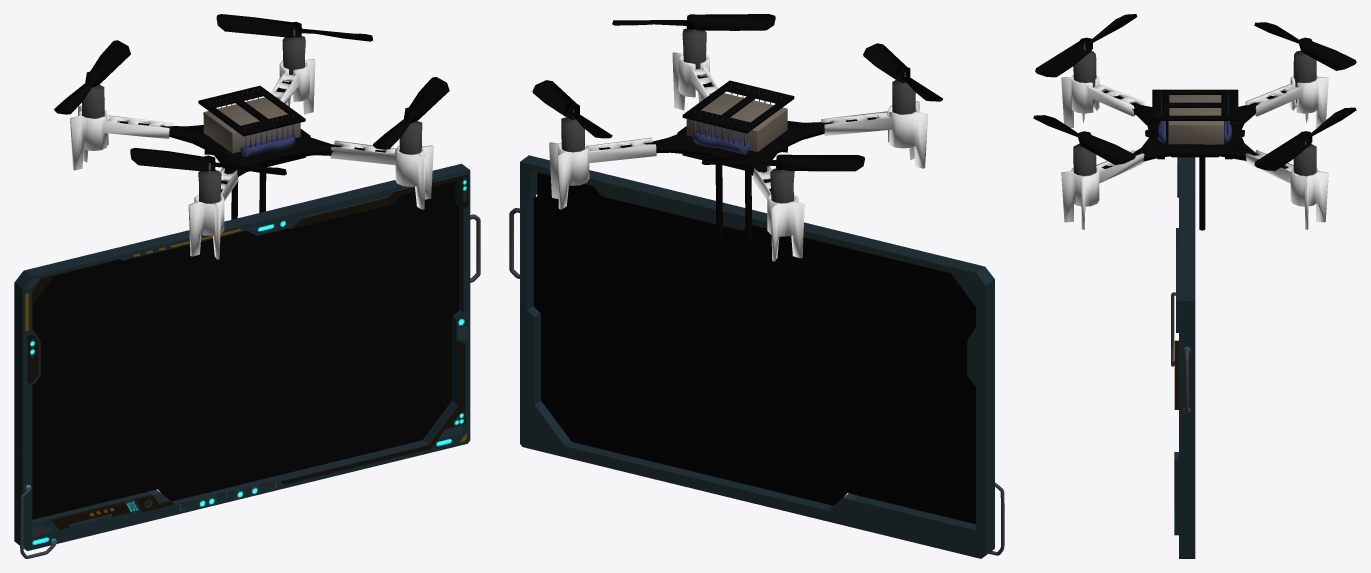
Rendered from screen.glb.
3 renders of one model, left to right at view 1: azimuth 30°, elevation 25°; view 2: azimuth 150°, elevation 25°; view 3: azimuth 270°, elevation 25°, orthographic. The views are drawn at different scales.
Parts seen in each view (by area): view 1: display, Main, 7mm motor mount Default sldprt_0, pcb Default sldprt_9, 7x15 motor Default sldprt_1, battery bc-bl-01-a Default sldprt_2, battery holder board Default sldprt_3, propeller ccw Default sldprt.002_6, propeller ccw Default sldprt.003_7, propeller ccw Default sldprt.004_8, propeller ccw Default sldprt.001_5, header Default sldprt_4; view 2: display, Main, 7mm motor mount Default sldprt_0, pcb Default sldprt_9, 7x15 motor Default sldprt_1, battery bc-bl-01-a Default sldprt_2, battery holder board Default sldprt_3, propeller ccw Default sldprt.001_5, propeller ccw Default sldprt.004_8, propeller ccw Default sldprt.002_6, propeller ccw Default sldprt.003_7, header Default sldprt_4; view 3: 7mm motor mount Default sldprt_0, Main, pcb Default sldprt_9, 7x15 motor Default sldprt_1, battery bc-bl-01-a Default sldprt_2, battery holder board Default sldprt_3, propeller ccw Default sldprt.002_6, propeller ccw Default sldprt.003_7, propeller ccw Default sldprt.001_5, propeller ccw Default sldprt.004_8, tx_cable.
Part boxes in pixels (left/top/right/bottom): display: left=32, top=181, right=458, bottom=519; Main: left=14, top=163, right=480, bottom=558; 7mm motor mount Default sldprt_0: left=70, top=58, right=433, bottom=259; pcb Default sldprt_9: left=120, top=81, right=385, bottom=192; 7x15 motor Default sldprt_1: left=82, top=28, right=422, bottom=203; battery bc-bl-01-a Default sldprt_2: left=203, top=97, right=300, bottom=153; battery holder board Default sldprt_3: left=198, top=85, right=305, bottom=136; propeller ccw Default sldprt.002_6: left=216, top=14, right=372, bottom=41; propeller ccw Default sldprt.003_7: left=130, top=148, right=286, bottom=175; propeller ccw Default sldprt.004_8: left=54, top=40, right=130, bottom=114; propeller ccw Default sldprt.001_5: left=373, top=77, right=449, bottom=149; header Default sldprt_4: left=210, top=88, right=295, bottom=157; display: left=533, top=172, right=975, bottom=524; Main: left=509, top=155, right=1004, bottom=558; 7mm motor mount Default sldprt_0: left=549, top=52, right=927, bottom=261; pcb Default sldprt_9: left=599, top=76, right=876, bottom=191; 7x15 motor Default sldprt_1: left=561, top=28, right=915, bottom=203; battery bc-bl-01-a Default sldprt_2: left=686, top=93, right=787, bottom=152; battery holder board Default sldprt_3: left=682, top=80, right=794, bottom=133; propeller ccw Default sldprt.001_5: left=612, top=14, right=775, bottom=30; propeller ccw Default sldprt.004_8: left=701, top=154, right=864, bottom=171; propeller ccw Default sldprt.002_6: left=532, top=80, right=612, bottom=138; propeller ccw Default sldprt.003_7: left=863, top=43, right=942, bottom=101; header Default sldprt_4: left=693, top=83, right=781, bottom=154; 7mm motor mount Default sldprt_0: left=1061, top=75, right=1328, bottom=229; Main: left=1171, top=157, right=1195, bottom=558; pcb Default sldprt_9: left=1101, top=90, right=1288, bottom=168; 7x15 motor Default sldprt_1: left=1073, top=43, right=1316, bottom=175; battery bc-bl-01-a Default sldprt_2: left=1168, top=95, right=1223, bottom=144; battery holder board Default sldprt_3: left=1152, top=89, right=1238, bottom=120; propeller ccw Default sldprt.002_6: left=1254, top=107, right=1356, bottom=170; propeller ccw Default sldprt.003_7: left=1035, top=14, right=1137, bottom=77; propeller ccw Default sldprt.001_5: left=1033, top=115, right=1135, bottom=165; propeller ccw Default sldprt.004_8: left=1254, top=22, right=1356, bottom=70; tx_cable: left=1199, top=157, right=1205, bottom=230.
Bounding box in the file's own units: 19 × 15.67 × 11.99.
10 materials, 1 textured.
